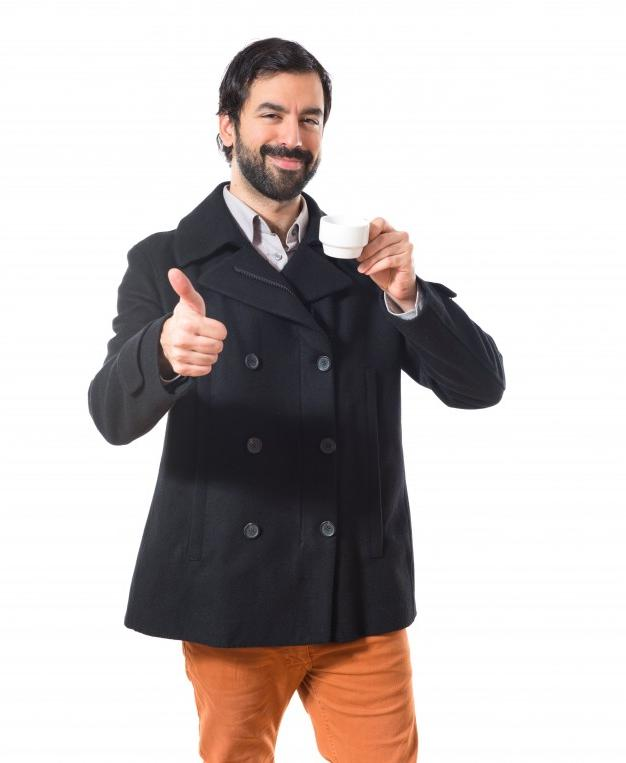thumbsup: (168, 267, 228, 376)
